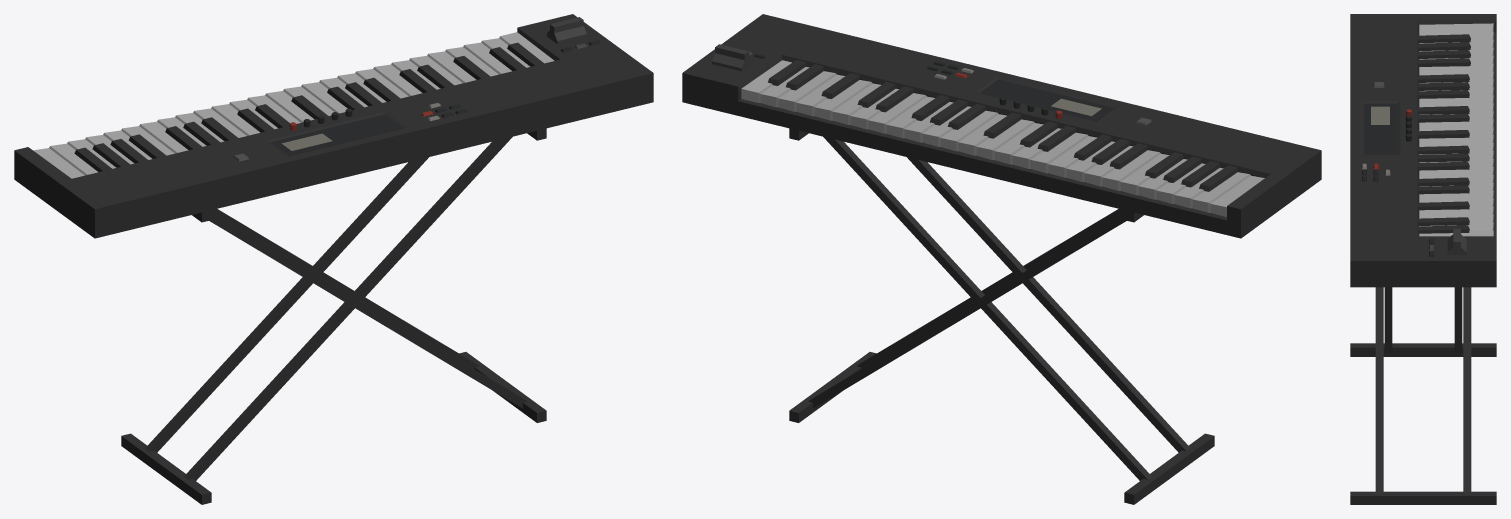
File: SM_Props_Concert_Keyboard.fbx
3 views of the same model, side by side, from view 1: azimuth 30°, elevation 25°; view 2: azimuth 150°, elevation 25°; view 3: azimuth 270°, elevation 25° (orthographic). The views are drawn at different scales.
Parts seen in each view (by area): view 1: SM_Props_Concert_Keyboard; view 2: SM_Props_Concert_Keyboard; view 3: SM_Props_Concert_Keyboard.
Part boxes in pixels (x1=…): SM_Props_Concert_Keyboard: x1=14, y1=14, x2=653, y2=504; SM_Props_Concert_Keyboard: x1=682, y1=14, x2=1321, y2=504; SM_Props_Concert_Keyboard: x1=1350, y1=14, x2=1496, y2=504.
Bounding box in the file's own units: 200 × 115 × 50.
